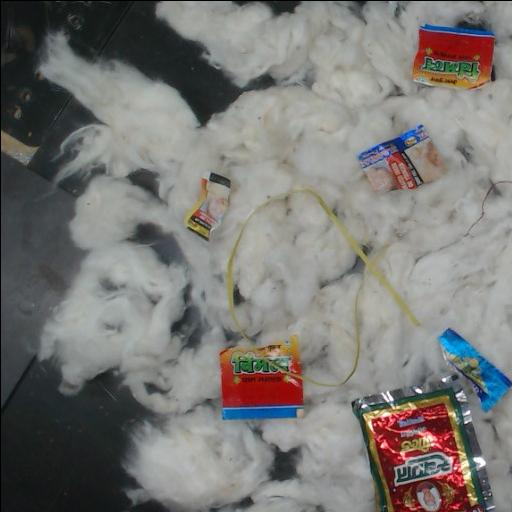conveyor belt: (1, 1, 273, 512), (135, 225, 182, 262), (172, 306, 202, 345), (272, 449, 296, 480), (129, 170, 155, 193), (266, 1, 296, 13)
cotton: (38, 1, 512, 512), (475, 394, 512, 512)
packet: (352, 329, 511, 512), (219, 338, 302, 418), (359, 125, 442, 191), (413, 25, 493, 88), (186, 173, 230, 239)
thread: (225, 188, 420, 358), (282, 288, 360, 388), (459, 180, 512, 240)
